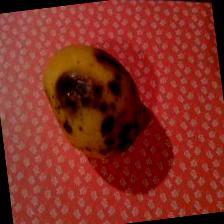Mango Overripe: (22, 32, 148, 166)
